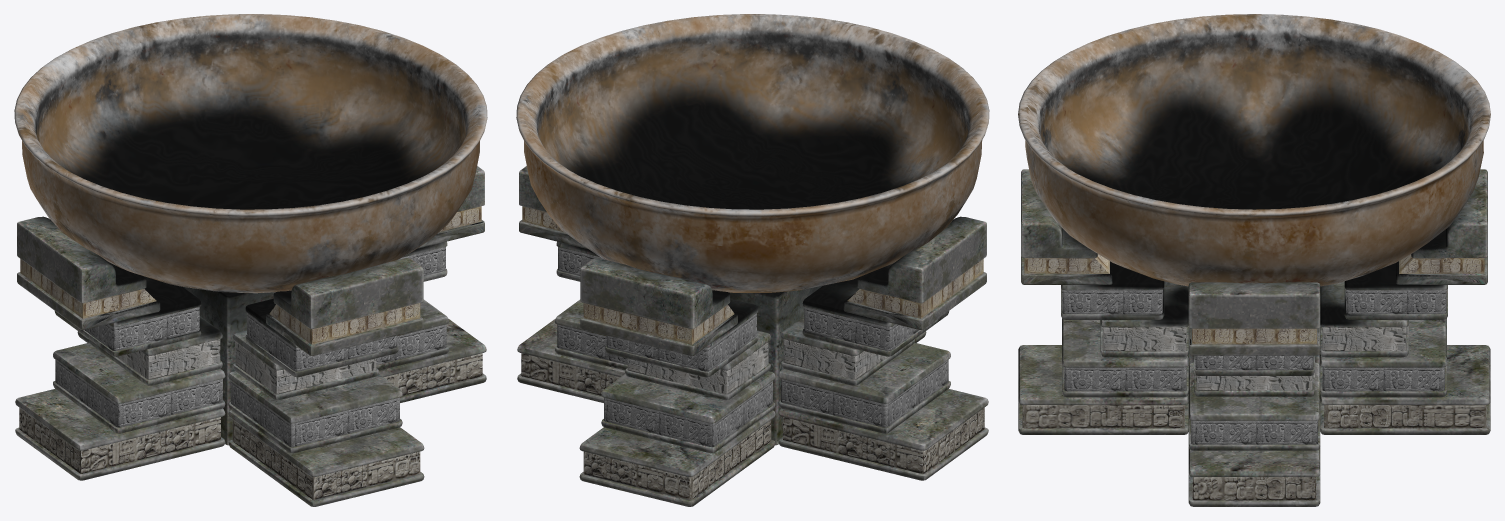
File: SM_FirePit_B.fbx
The picture shows the model from 3 angles, left to right: view 1: azimuth 30°, elevation 25°; view 2: azimuth 150°, elevation 25°; view 3: azimuth 270°, elevation 25°; orthographic projection.
Visible parts, largest first — view 1: SM_FirePit_B_LOD0; view 2: SM_FirePit_B_LOD0; view 3: SM_FirePit_B_LOD0.
Part boxes in pixels (x1,y1,x2,y2): SM_FirePit_B_LOD0: (14, 14, 487, 506); SM_FirePit_B_LOD0: (516, 14, 989, 506); SM_FirePit_B_LOD0: (1018, 14, 1490, 506).
Bounding box in the file's own units: 145 × 145 × 100.
